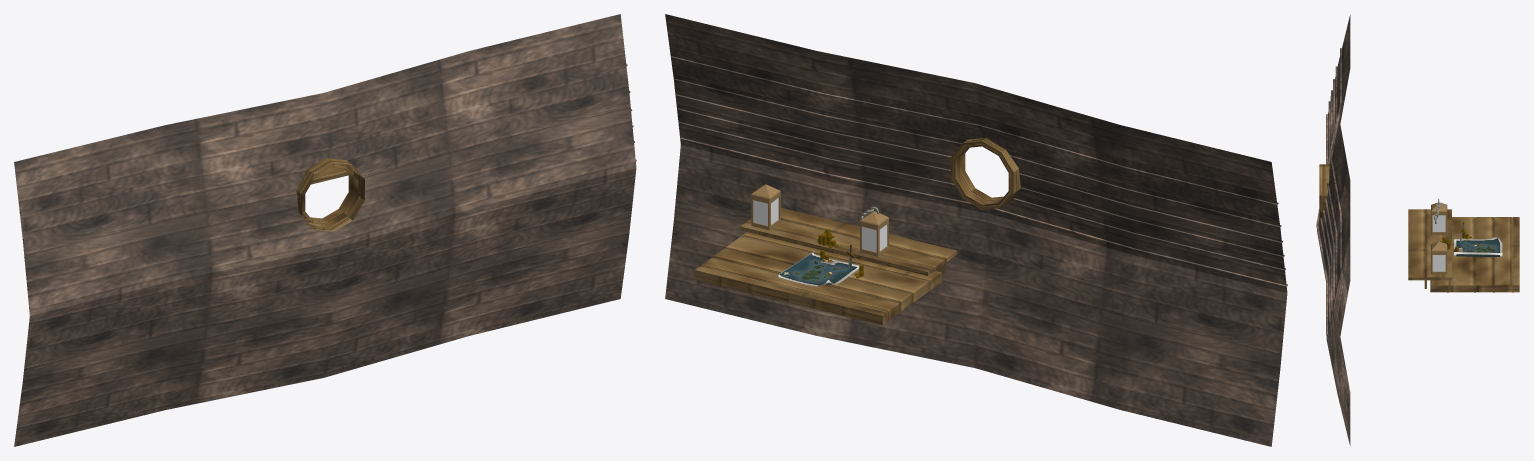
The model's file is Main_menu.glb.
The picture shows the model from 3 angles, left to right: view 1: azimuth 30°, elevation 25°; view 2: azimuth 150°, elevation 25°; view 3: azimuth 270°, elevation 25°; orthographic projection. The views are drawn at different scales.
Visible parts, largest first — view 1: Plane.001, Cylinder.024; view 2: Plane.001, Cube, Cube.003, Cylinder.024, Plane, Cube.004, Cube.002; view 3: Plane.001, Cube, Cube.003, Plane, Cube.004, Cube.002, Cylinder.024.
Part boxes in pixels (bbox=[...]): Plane.001: bbox=[14, 14, 636, 446]; Cylinder.024: bbox=[296, 158, 364, 231]; Plane.001: bbox=[665, 14, 1287, 446]; Cube: bbox=[694, 232, 942, 325]; Cube.003: bbox=[740, 207, 957, 275]; Cylinder.024: bbox=[951, 138, 1021, 209]; Plane: bbox=[778, 250, 859, 286]; Cube.004: bbox=[751, 184, 780, 230]; Cube.002: bbox=[860, 211, 888, 256]; Plane.001: bbox=[1316, 15, 1350, 445]; Cube: bbox=[1430, 217, 1519, 292]; Cube.003: bbox=[1408, 209, 1451, 288]; Plane: bbox=[1454, 237, 1502, 256]; Cube.004: bbox=[1431, 241, 1447, 274]; Cube.002: bbox=[1431, 203, 1447, 235]; Cylinder.024: bbox=[1319, 164, 1329, 219].
Size of the model in its own units: 12.92 by 5.8 by 5.04.
7 materials, 3 textured.
